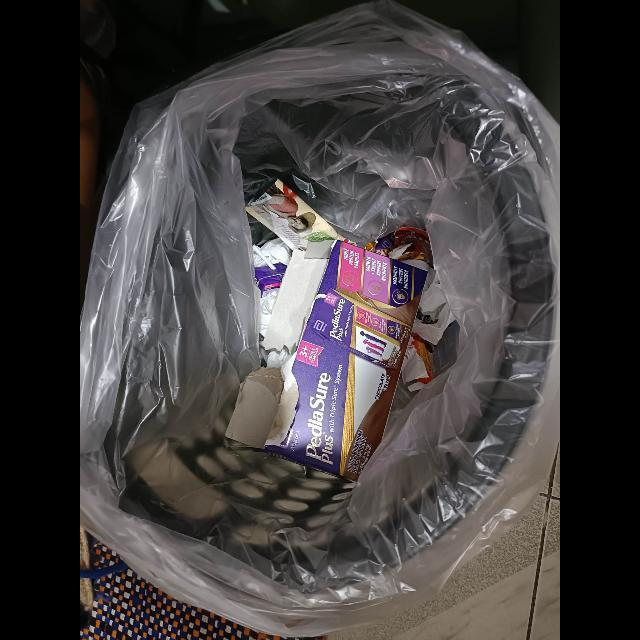paper: (226, 240, 427, 483)
wrapper: (246, 177, 338, 252)
